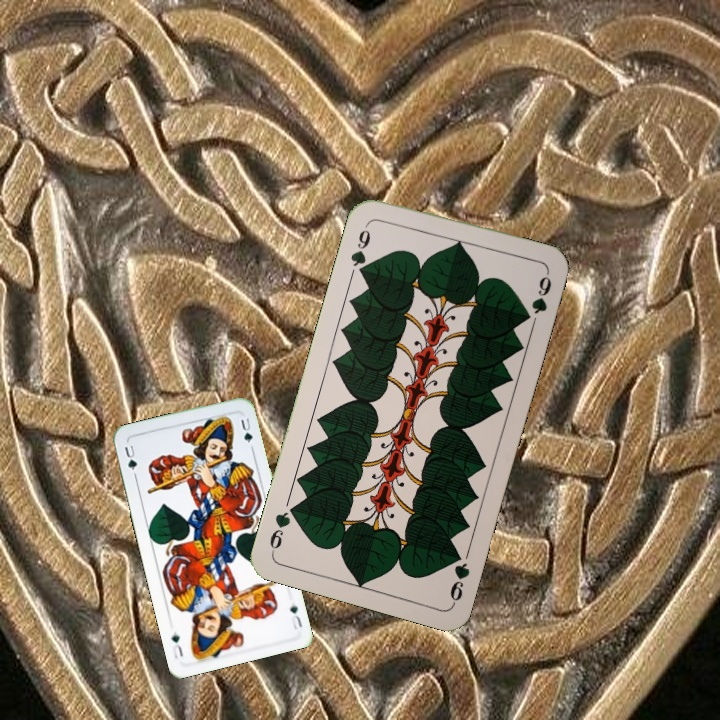G9: (346, 218, 373, 278), (446, 546, 472, 607)
GU: (120, 441, 140, 479), (286, 598, 305, 632)
